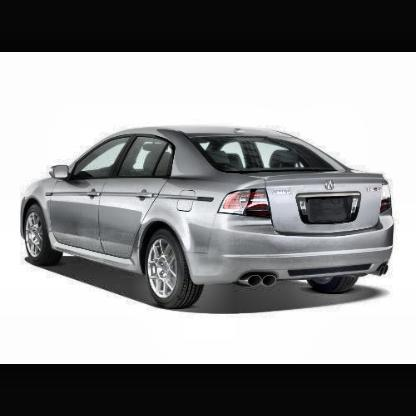Acura TL Type-S 2008: (19, 126, 399, 312)
